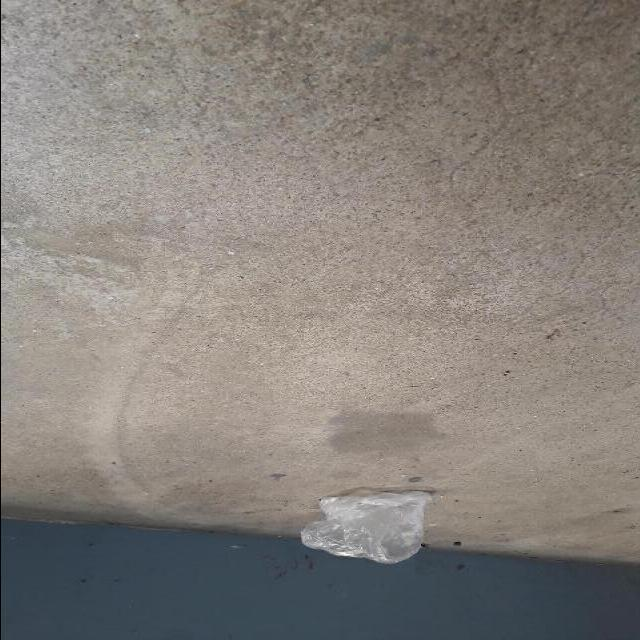plastic bag: (295, 489, 435, 568)
